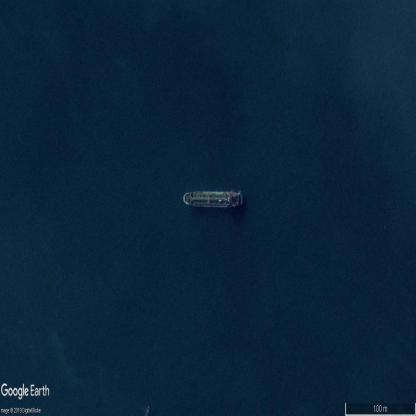ship: (183, 191, 243, 208)
